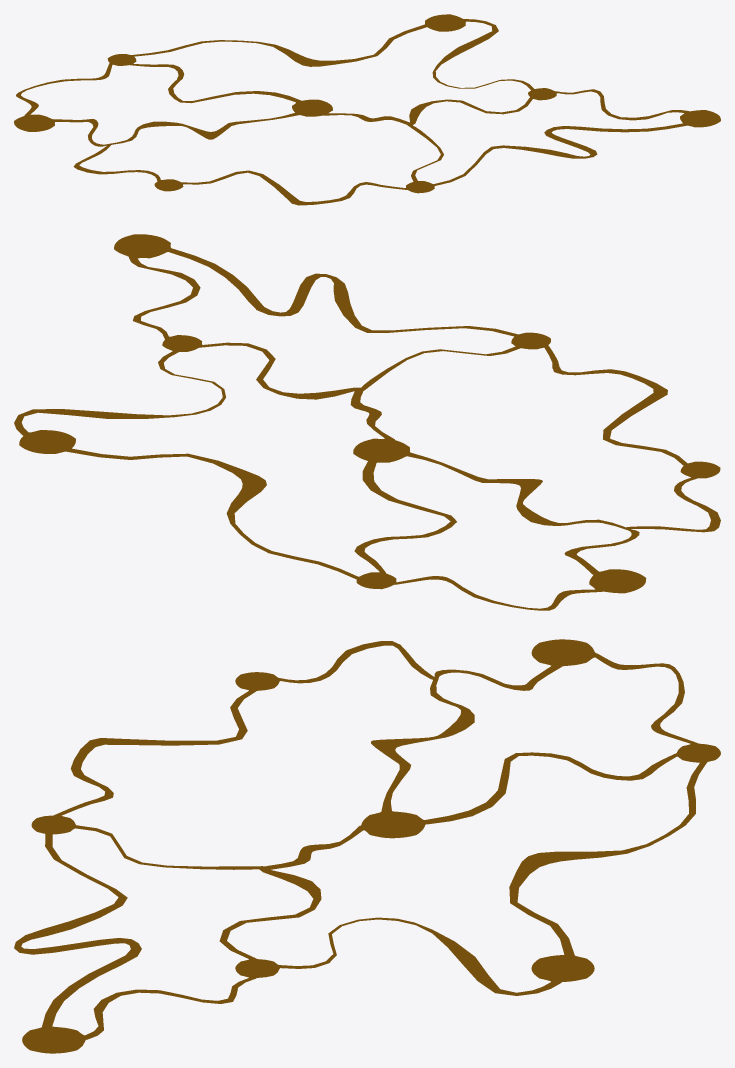
File: AntColonyNvaMesh.glb
3 views of the same model, one above another, from view 1: azimuth 30°, elevation 25°; view 2: azimuth 150°, elevation 25°; view 3: azimuth 270°, elevation 25° (orthographic). The views are drawn at different scales.
Visible parts, largest first — view 1: NavMat; view 2: NavMat; view 3: NavMat.
Boxes of the visible parts, x1=… form: NavMat: x1=14, y1=14, x2=720, y2=205; NavMat: x1=14, y1=234, x2=720, y2=610; NavMat: x1=14, y1=639, x2=720, y2=1053.
Bounding box in the file's own units: 289 × 0.00628 × 208.
